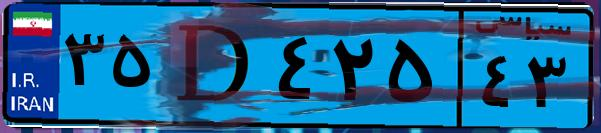2: (330, 28, 385, 110)
3: (57, 26, 110, 100), (525, 38, 570, 115)
4: (270, 28, 330, 110), (475, 38, 525, 113)
5: (385, 28, 445, 110), (110, 28, 158, 98)
D: (158, 12, 270, 120)
